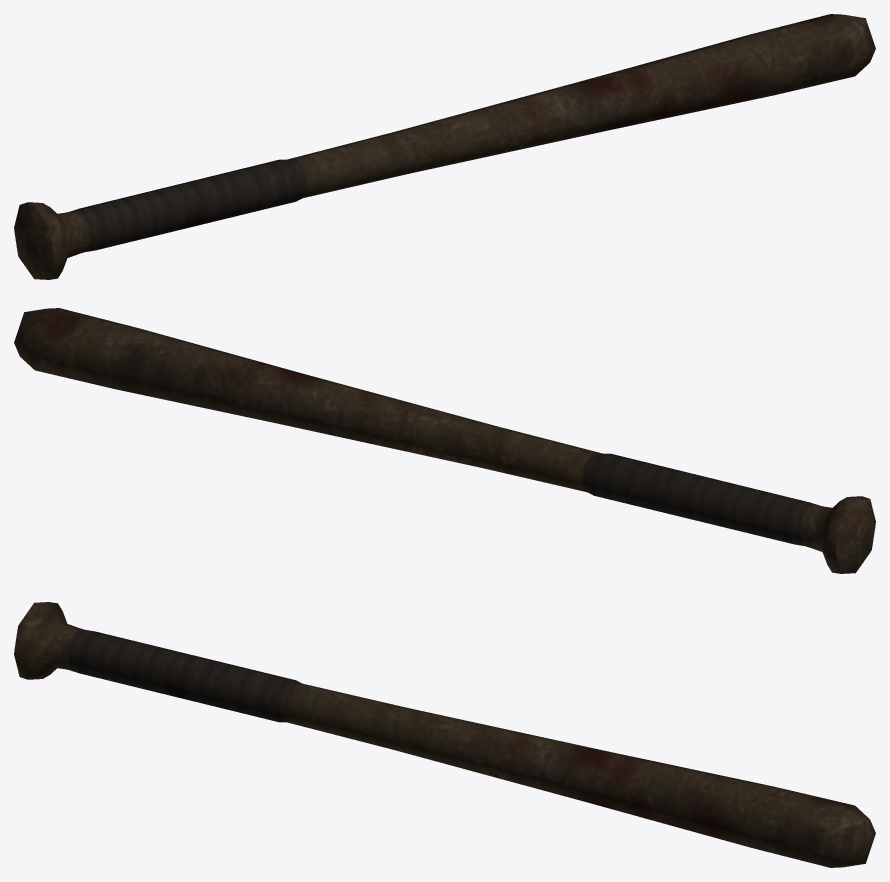
The model's file is baseball_bat_mx_2.dae.
3 renders of one model, top to bottom at view 1: azimuth 30°, elevation 25°; view 2: azimuth 150°, elevation 25°; view 3: azimuth 330°, elevation 25°, orthographic.
Visible parts, largest first — view 1: baseball_bat_mx_2; view 2: baseball_bat_mx_2; view 3: baseball_bat_mx_2.
Part boxes in pixels (x1,y1,x2,y2): baseball_bat_mx_2: (14,14,875,279); baseball_bat_mx_2: (14,308,875,573); baseball_bat_mx_2: (14,602,875,867).
Size of the model in its own units: 1.24 by 0.1053 by 0.1053.
1 material, 1 textured.
